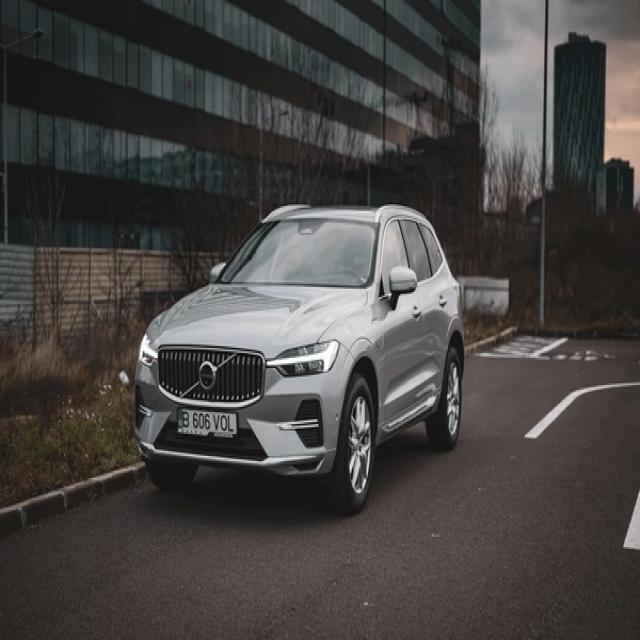volvo: (198, 360, 219, 391)
